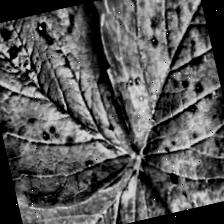Leaf Spot: (0, 0, 146, 219), (88, 0, 224, 221), (14, 148, 182, 224)
